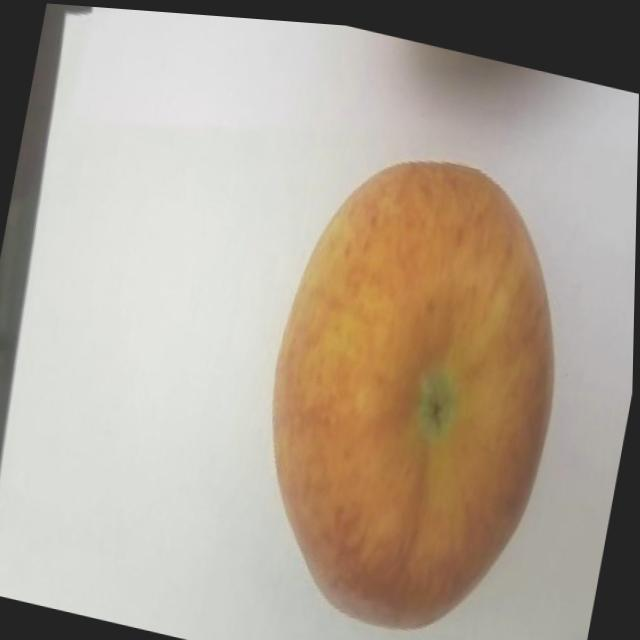Apple: (233, 117, 598, 640)
